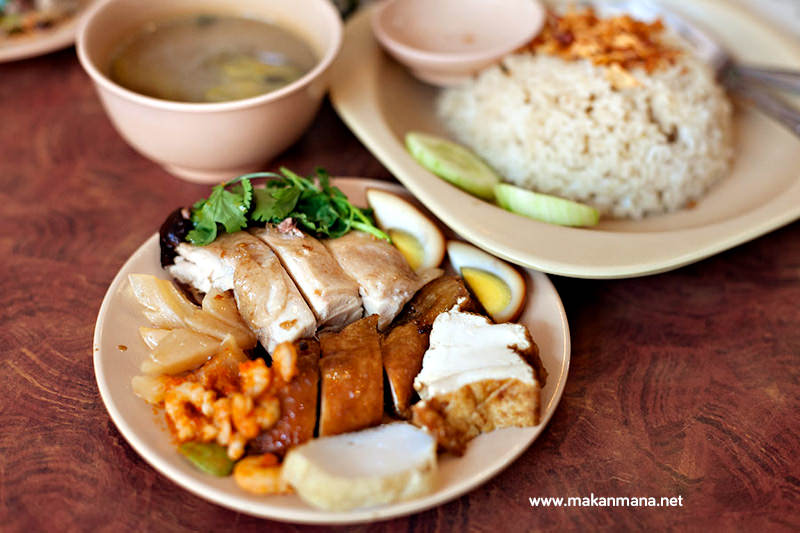buah_sayur_lainnya: (221, 192, 323, 224)
daging: (201, 256, 386, 302), (303, 358, 391, 408), (158, 313, 224, 355)
kacang_legume: (304, 455, 414, 494)
makanan_berpati: (507, 76, 700, 147)
telur: (373, 198, 424, 249), (466, 260, 512, 307)
